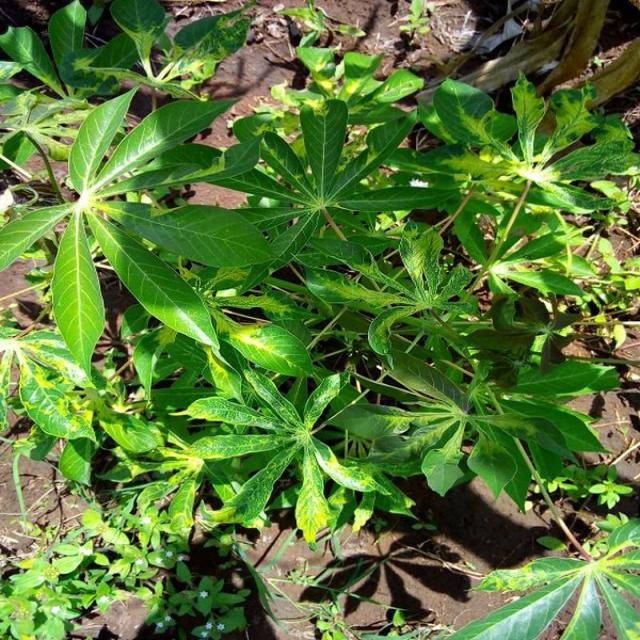cassava leaf: (52, 206, 106, 381)
